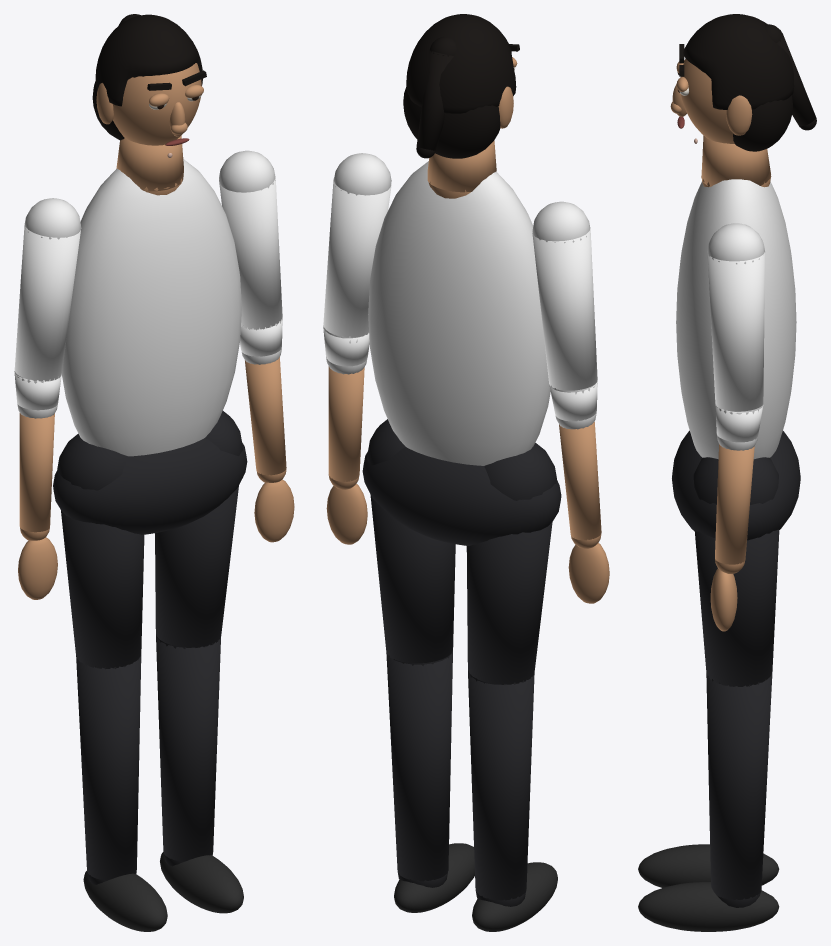
Rendered from nhung.glb.
3 views of the same model, side by side, from view 1: azimuth 30°, elevation 25°; view 2: azimuth 150°, elevation 25°; view 3: azimuth 270°, elevation 25° (orthographic). The views are drawn at different scales.
Parts seen in each view (by area): view 1: Sphere.011, Cone.003, Cone.001, Sphere.010, Cone, Cone.002, Cone.006, Cone.009, Sphere.027, Sphere.014, Cone.008, Cone.011 (+11 smaller); view 2: Sphere.011, Cone.003, Cone.001, Sphere.010, Cone, Cone.002, Cone.006, Sphere.027, Cone.009, Cone.008, Cone.011, Sphere.028 (+12 smaller); view 3: Sphere.011, Cone.003, Cone.002, Cone.009, Sphere.027, Sphere.010, Sphere.009, Cone.011, Sphere.004, Cone.004, Sphere.014, Sphere.005 (+6 smaller).
Part boxes in pixels (bbox=[...]): Sphere.011: bbox=[61, 159, 241, 456]; Cone.003: bbox=[156, 634, 220, 861]; Cone.001: bbox=[76, 654, 141, 880]; Sphere.010: bbox=[53, 437, 247, 534]; Cone: bbox=[61, 510, 144, 668]; Cone.002: bbox=[155, 486, 238, 647]; Cone.006: bbox=[14, 223, 81, 381]; Cone.009: bbox=[219, 174, 282, 329]; Sphere.027: bbox=[95, 14, 202, 106]; Sphere.014: bbox=[112, 63, 201, 145]; Cone.008: bbox=[19, 413, 54, 532]; Cone.011: bbox=[245, 357, 286, 475]; Sphere.011: bbox=[368, 161, 550, 465]; Cone.003: bbox=[386, 650, 452, 881]; Cone.001: bbox=[468, 670, 534, 900]; Sphere.010: bbox=[362, 446, 561, 545]; Cone: bbox=[466, 500, 552, 684]; Cone.002: bbox=[370, 494, 455, 663]; Cone.006: bbox=[532, 228, 597, 390]; Sphere.027: bbox=[406, 14, 516, 113]; Cone.009: bbox=[323, 177, 391, 337]; Cone.008: bbox=[559, 421, 601, 540]; Cone.011: bbox=[328, 366, 364, 481]; Sphere.028: bbox=[403, 87, 500, 158]; Sphere.011: bbox=[676, 179, 796, 459]; Cone.003: bbox=[706, 673, 772, 899]; Cone.002: bbox=[695, 502, 779, 686]; Cone.009: bbox=[707, 252, 764, 411]; Sphere.027: bbox=[683, 14, 794, 109]; Sphere.010: bbox=[672, 430, 800, 540]; Sphere.009: bbox=[638, 882, 779, 931]; Cone.011: bbox=[715, 444, 754, 564]; Sphere.004: bbox=[638, 844, 779, 887]; Cone.004: bbox=[701, 135, 770, 186]; Sphere.014: bbox=[680, 59, 734, 143]; Sphere.005: bbox=[693, 457, 778, 504].
Size of the model in its own units: 0.522 by 1.6 by 0.2913.
